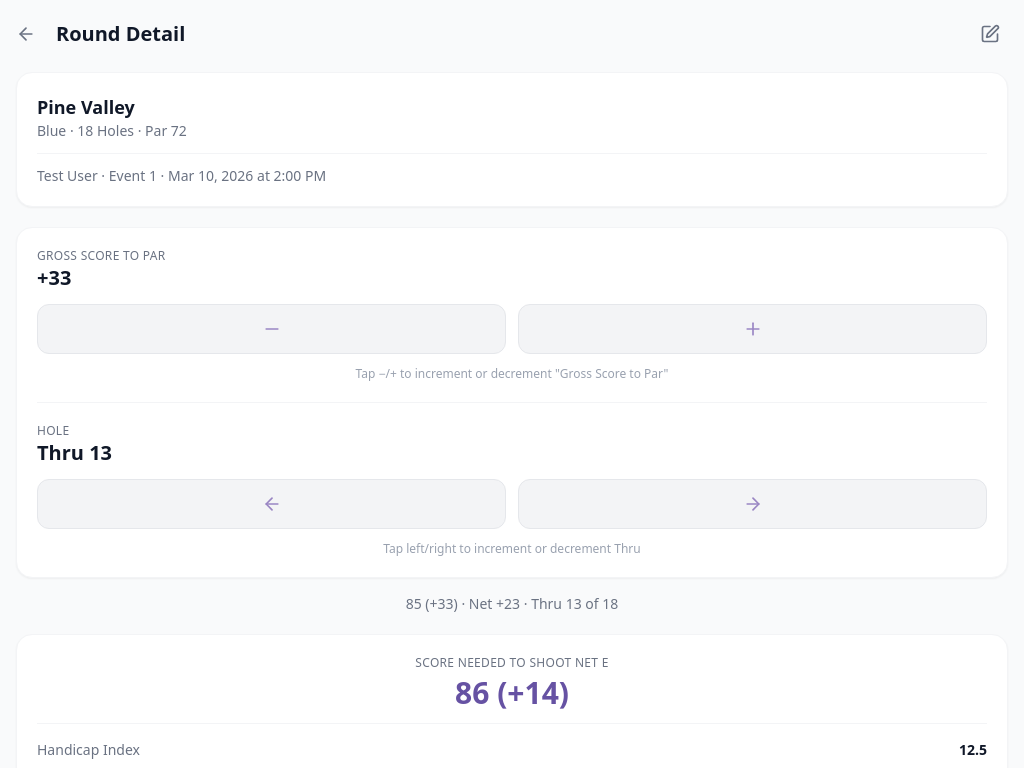
it: Score Detail Page - Partial Round Toggle › initializes toggle ON for partial round scores
expect the text "Pine Valley" is shown: met, box [37, 95, 135, 119]
Step 1. Click the 2nd button → (990, 34), box [972, 16, 1008, 52]
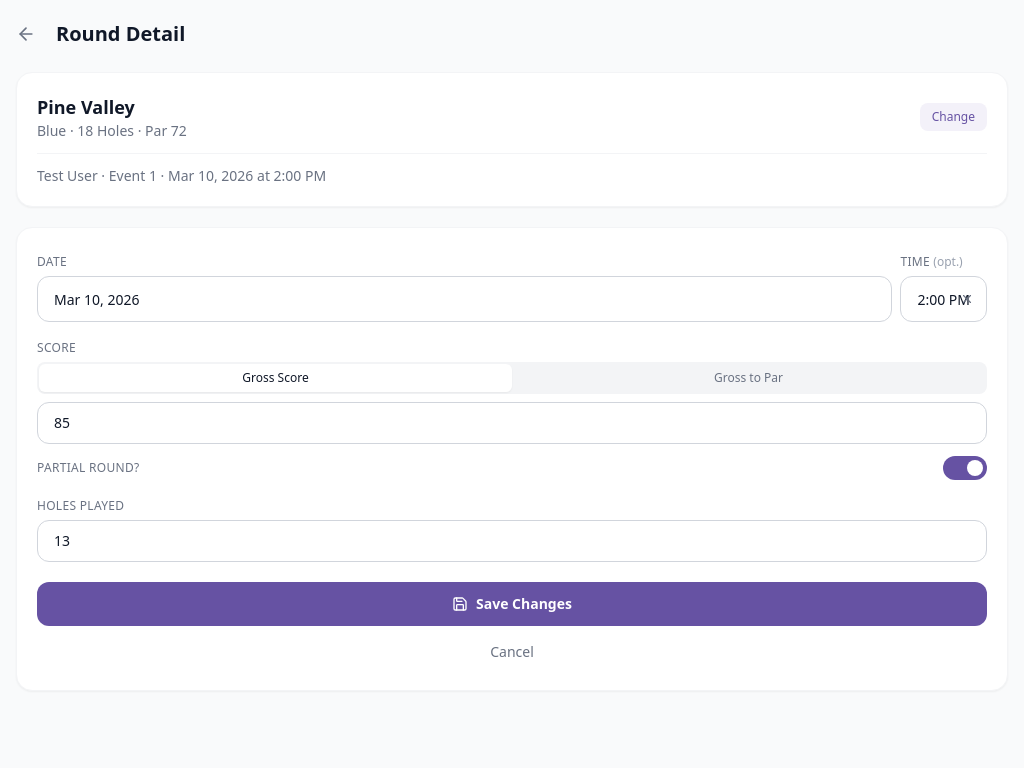
expect the number field showing "13" below "Holes Played" is shown: met, box [37, 520, 987, 562]
